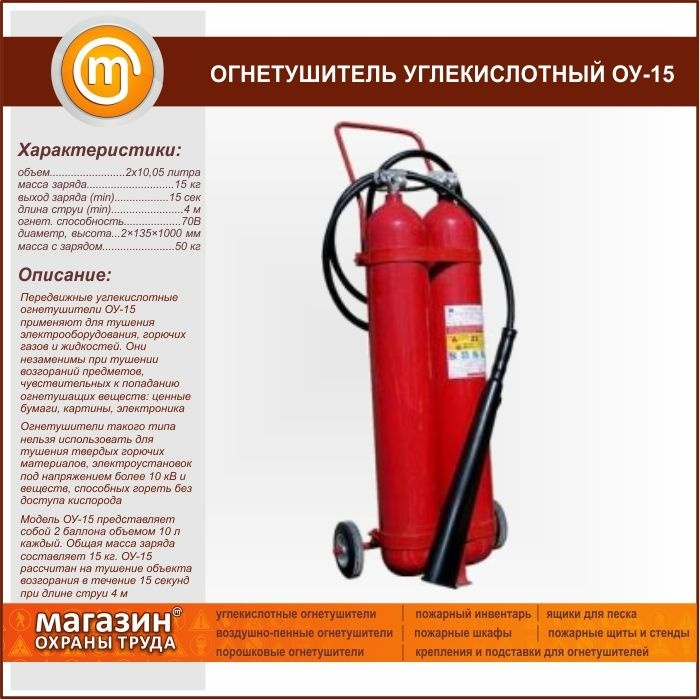fire_extinguisher: (322, 121, 517, 588)
